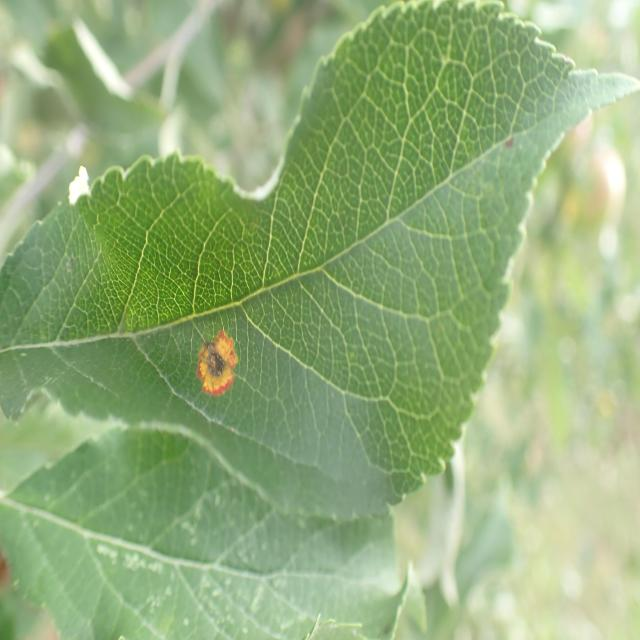Rust: (186, 310, 247, 412)
